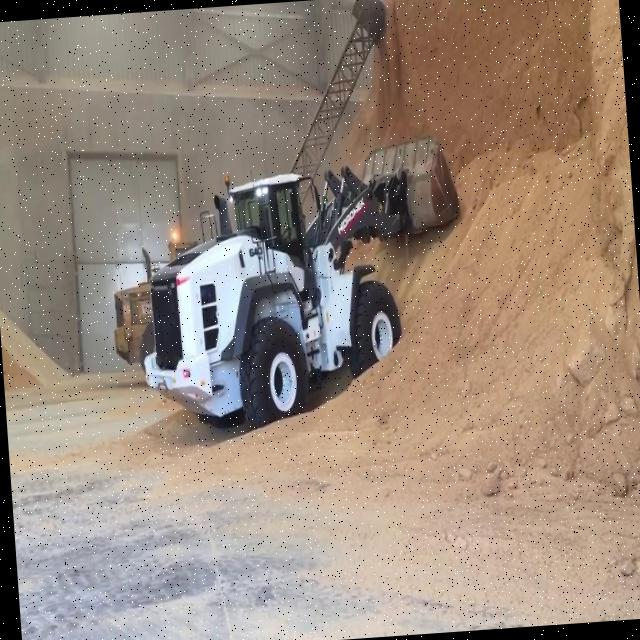Loader: (122, 104, 478, 446)
